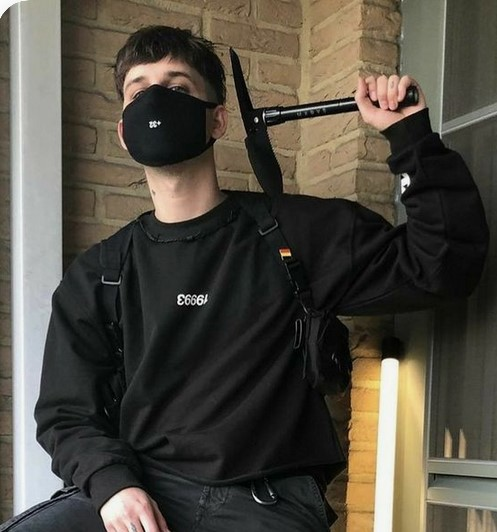face_with_mask: (114, 27, 236, 168)
